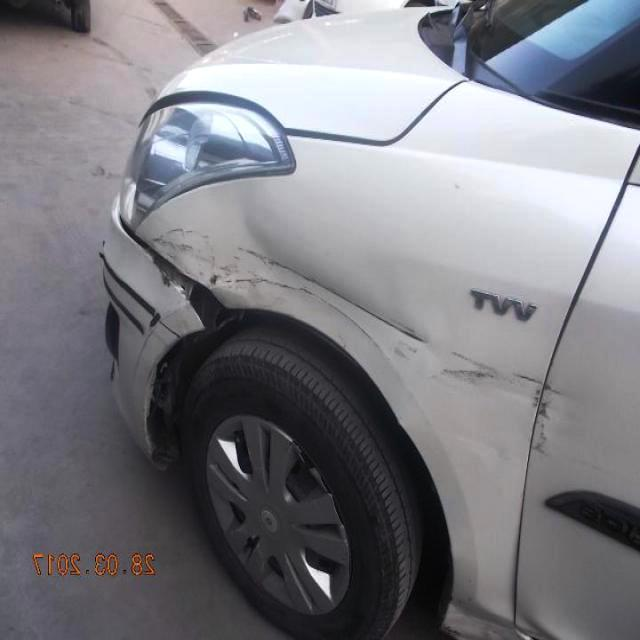minor: (145, 203, 524, 420)
moderate: (524, 378, 561, 465)
